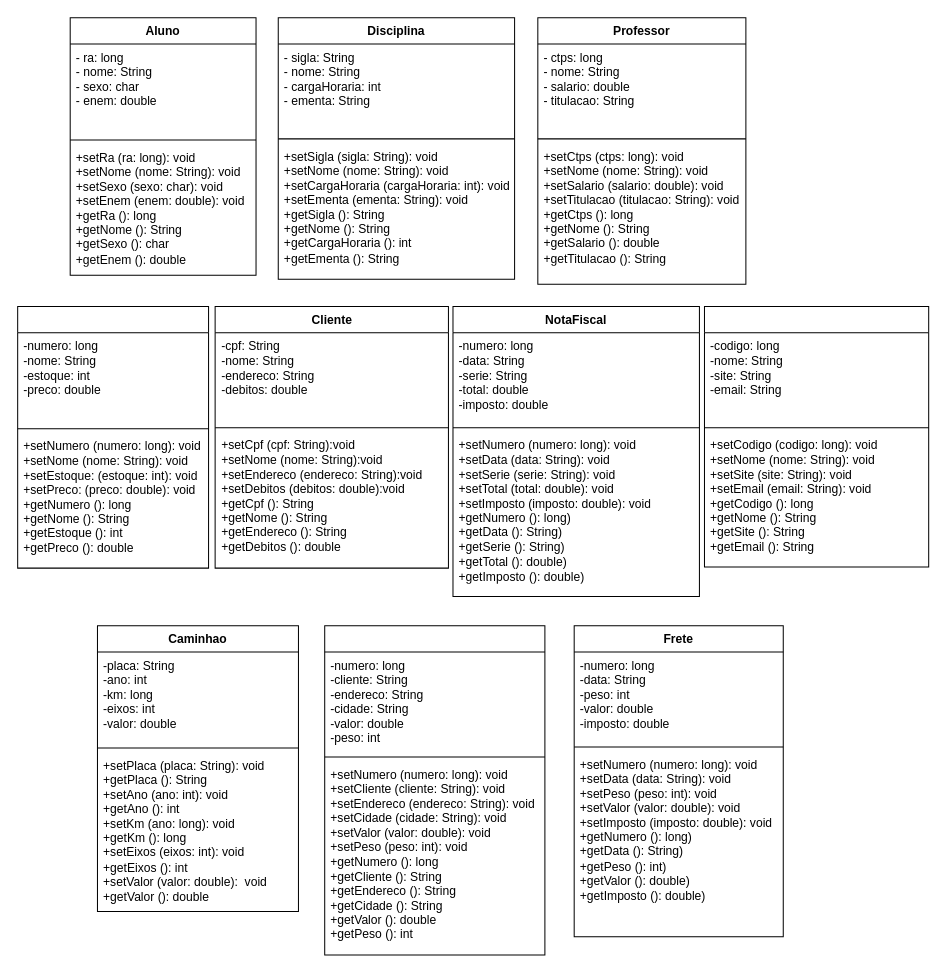
This 946x976 diagram has some shape labels left out. The box of each missing label's shape, as (x1, y1, x2, y2) in pixels:
Carga: (324, 625, 545, 955)
Fornecedor: (703, 306, 929, 567)
Produto: (17, 306, 209, 568)
